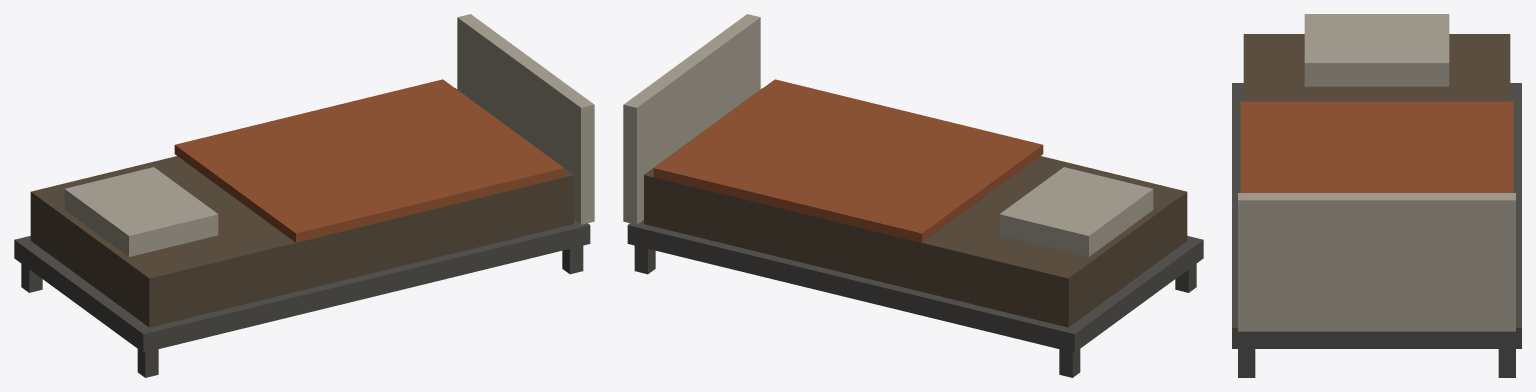
Rendered from civilian_bunk.glb.
3 views of the same model, side by side, from view 1: azimuth 30°, elevation 25°; view 2: azimuth 150°, elevation 25°; view 3: azimuth 270°, elevation 25° (orthographic). The views are drawn at different scales.
Parts seen in each view (by area): view 1: civilian_bunk; view 2: civilian_bunk; view 3: civilian_bunk.
Part boxes in pixels (bbox=[...]): civilian_bunk: bbox=[14, 14, 594, 377]; civilian_bunk: bbox=[623, 14, 1203, 377]; civilian_bunk: bbox=[1232, 14, 1521, 377].
Size of the model in its own units: 2.03 by 0.7 by 1.
